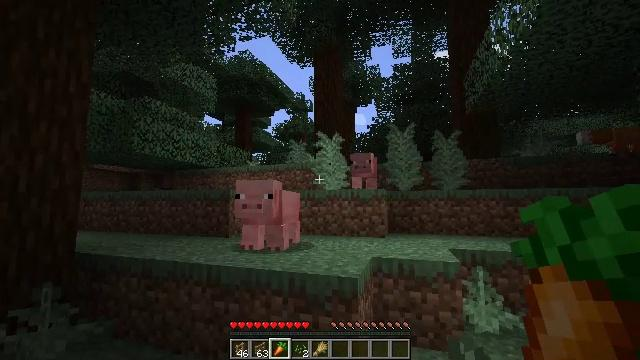pig: (235, 180, 301, 248), (351, 153, 378, 190)
